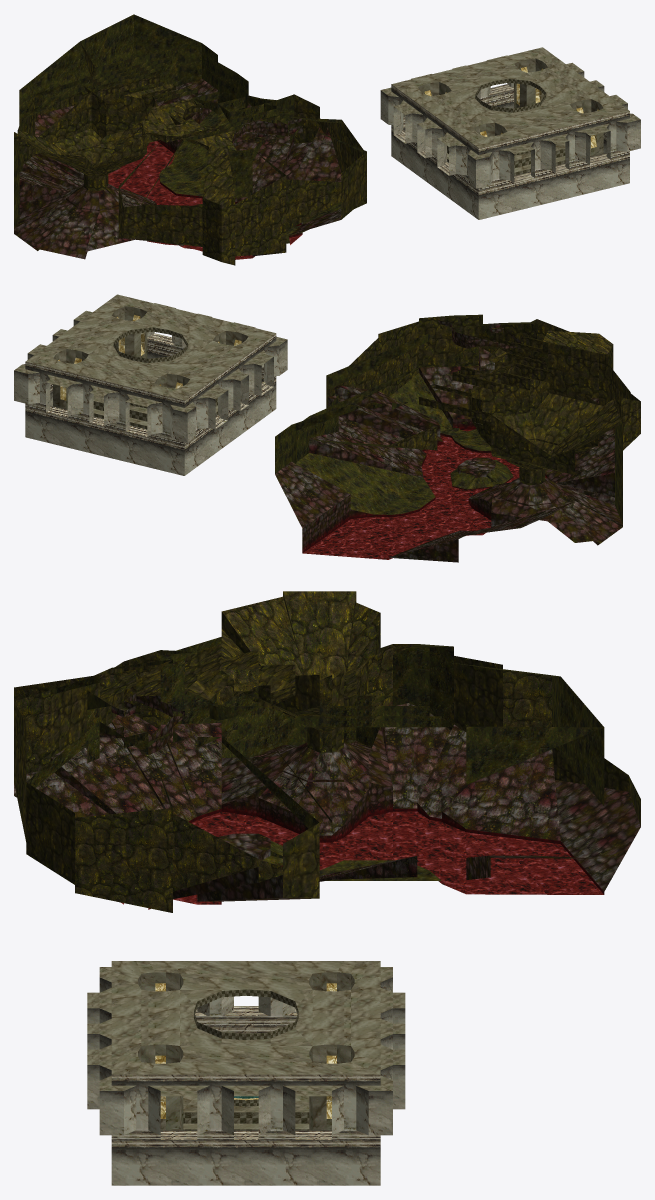
The model's file is Character creation.fbx.
3 renders of one model, top to bottom at view 1: azimuth 30°, elevation 25°; view 2: azimuth 150°, elevation 25°; view 3: azimuth 270°, elevation 25°, orthographic. The views are drawn at different scales.
Visible parts, largest first — view 1: Rosszak, J_k; view 2: Rosszak, J_k; view 3: Rosszak, J_k.
Boxes of the visible parts, left/top/right/bottom form: Rosszak: left=14, top=14, right=366, bottom=265; J_k: left=380, top=47, right=640, bottom=219; Rosszak: left=275, top=314, right=640, bottom=562; J_k: left=14, top=294, right=287, bottom=475; Rosszak: left=14, top=591, right=640, bottom=912; J_k: left=87, top=961, right=405, bottom=1185.
Bounding box in the file's own units: 560 × 130 × 359.
